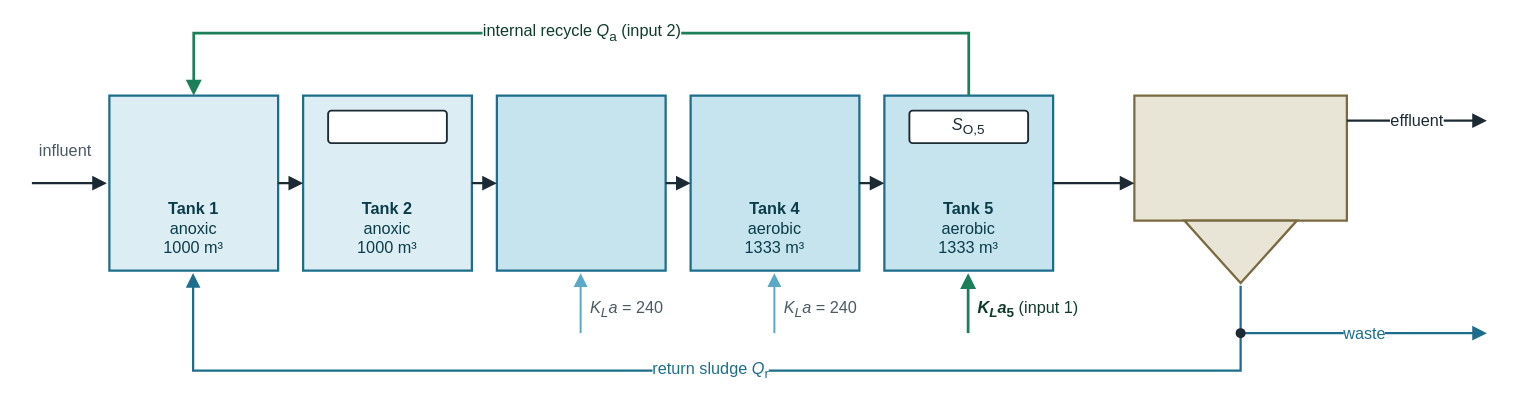
The diagram is 1521 pixels wide and 405 high, and some of its shapes have lost their labels. The centre of each missing label's shape, as x and y in pixels:
S NO,2: point (387, 126)
Settler 10 layers: point (1240, 157)
Tank 3 aerobic 1333 m³: point (580, 182)
